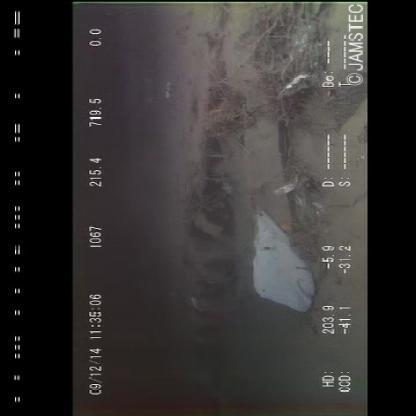Rác: (270, 26, 324, 100), (268, 164, 314, 198)
